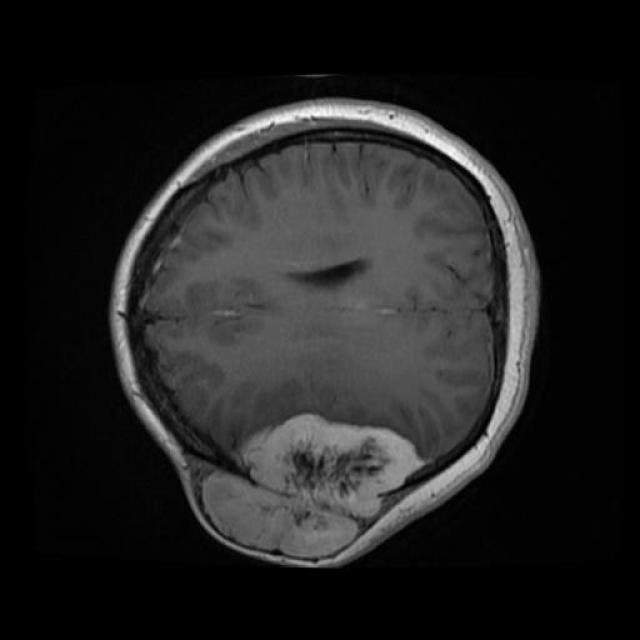Meningioma: (187, 414, 425, 559)
